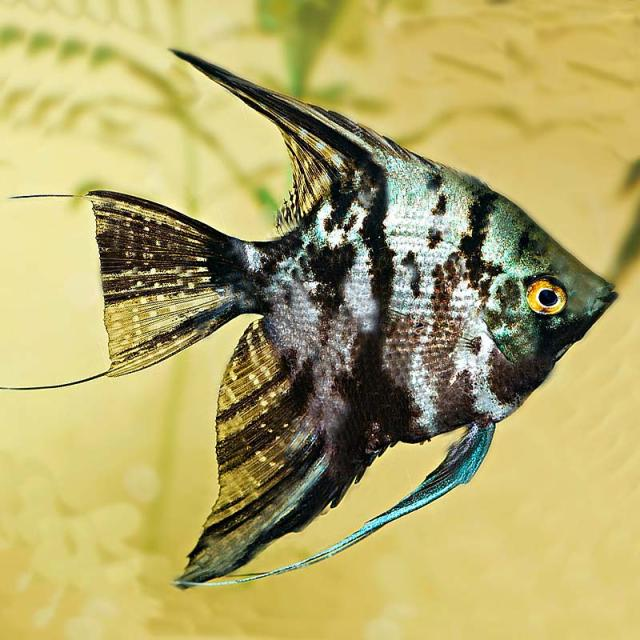AngelFish: (15, 48, 621, 605)
